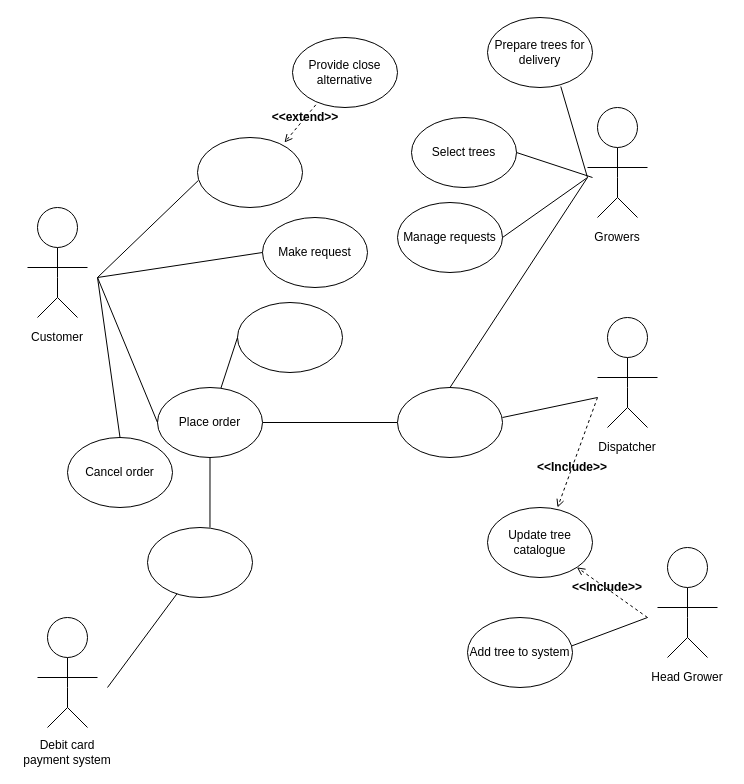
The diagram is 744 pixels wide and 784 high, and some of its shapes have lost their labels. The box of each missing label's shape, as (x1, y1, x2, y2) in pixels:
Make Payment: (146, 526, 252, 598)
Manage dispatch list: (396, 386, 502, 458)
Register/Login: (236, 302, 342, 372)
View available trees: (196, 136, 302, 208)
